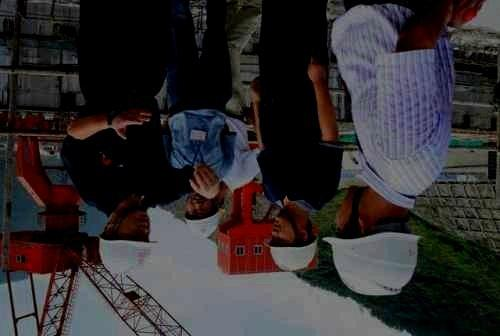helmet: (321, 186, 424, 296), (97, 203, 160, 275), (262, 208, 318, 271), (182, 193, 220, 238)
